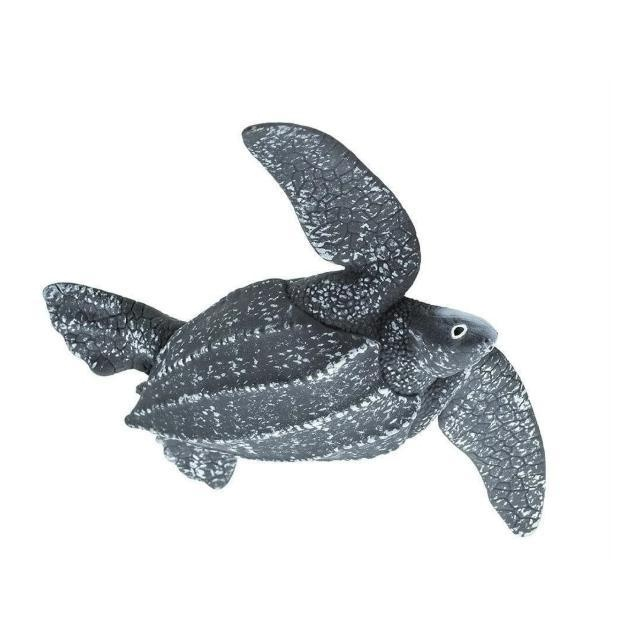turtle: (41, 121, 548, 539)
